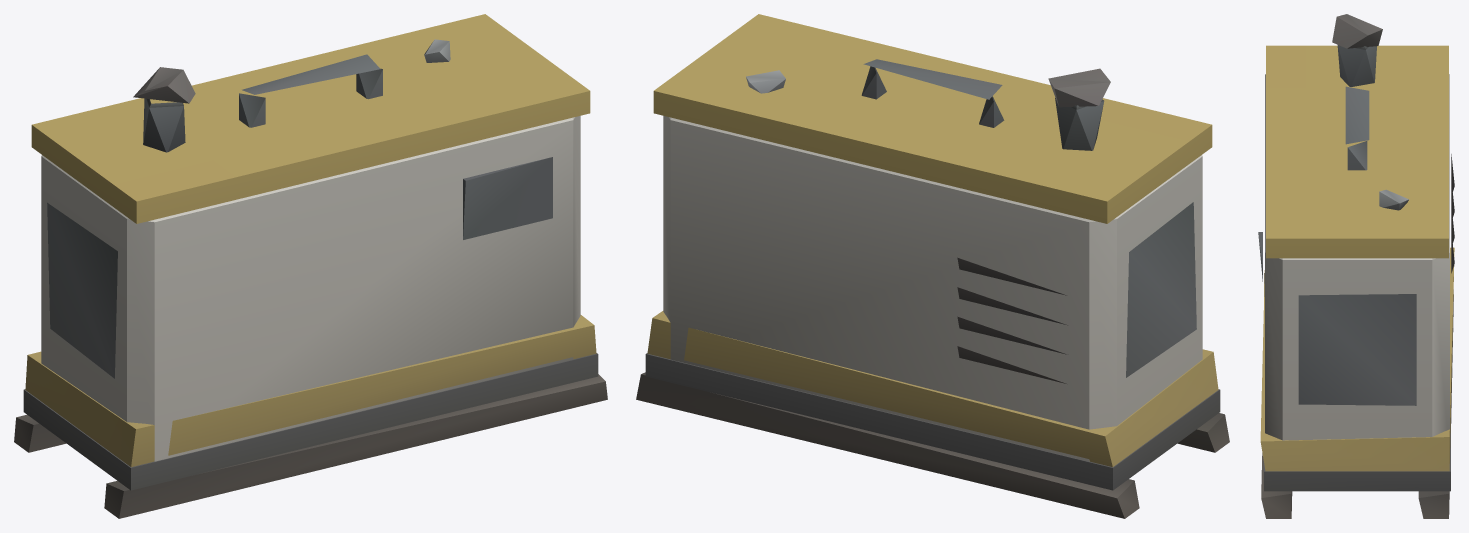
File: genset.lod1.glb
3 views of the same model, side by side, from view 1: azimuth 30°, elevation 25°; view 2: azimuth 150°, elevation 25°; view 3: azimuth 270°, elevation 25° (orthographic). The views are drawn at different scales.
Bounding box in the file's own units: 2.5 × 1.86 × 0.999.
